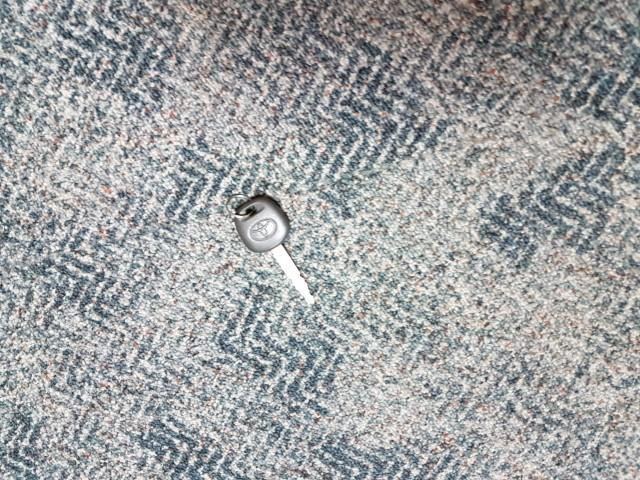key: (232, 196, 314, 306)
